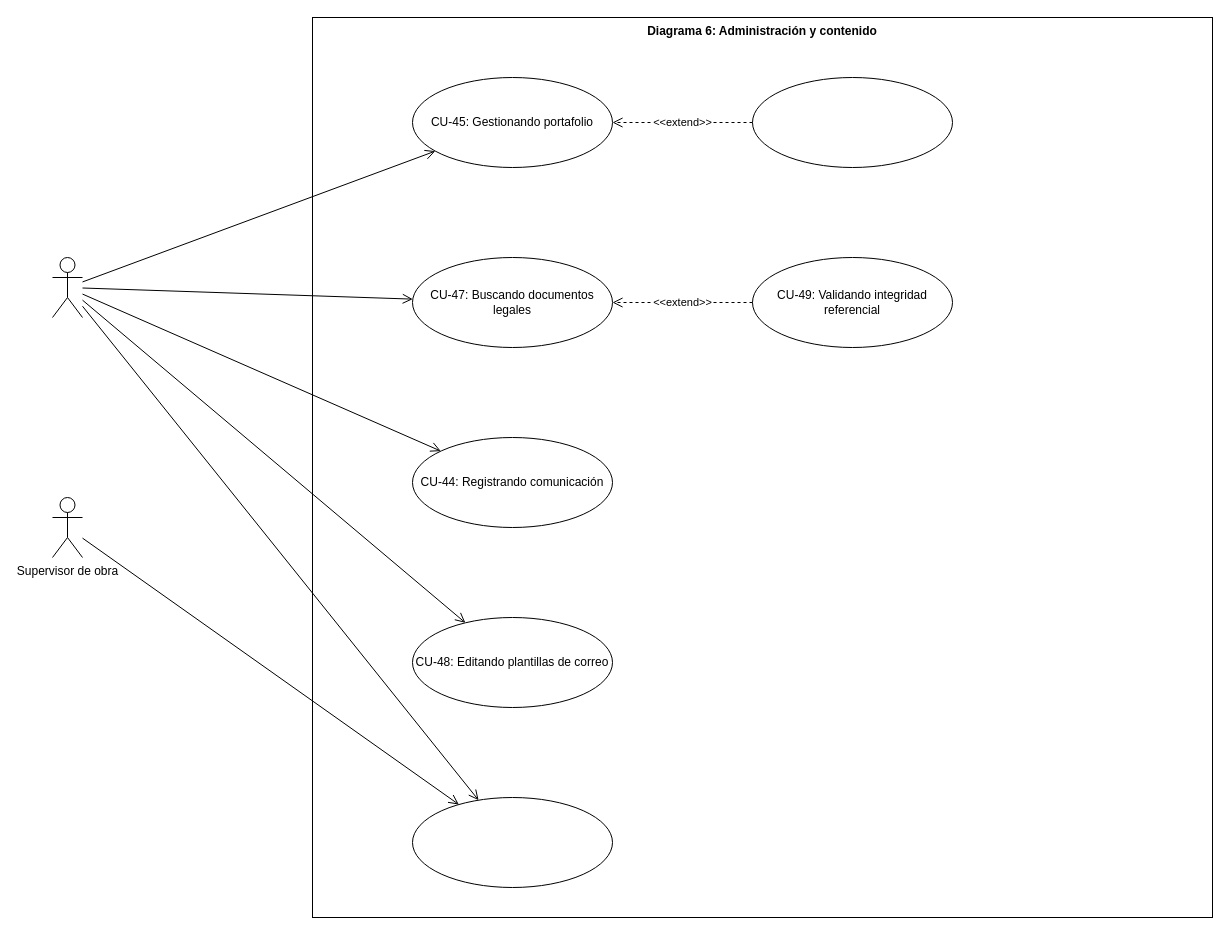
Image size: 1230x935. Some labels were removed from this diagram. The shapes that lost their labels are listed below. From the top down, each one's centre as x and y in pixels, then its label:
At point 852,122: "CU-46: Gestionando avisos".
At point 67,287: "Administrador total".
At point 512,842: "CU-56: Emitiendo certificado de instalación".
